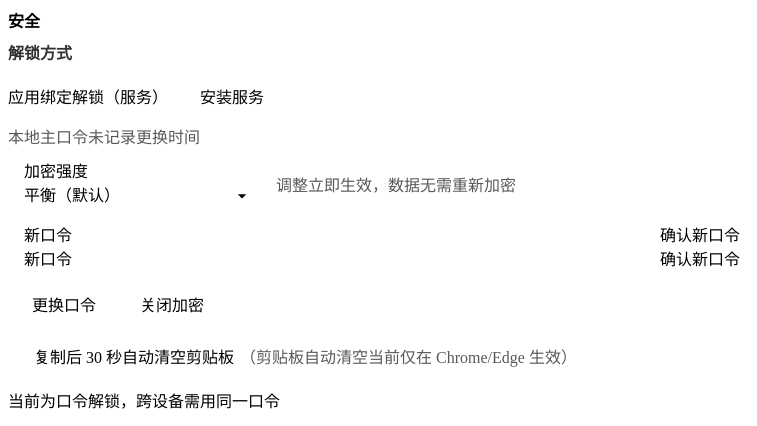
Test case: SecurityCard ABE 区块（plan p6 §0.3 三态 + R7-I2 源缺失引导态） › I4 编排：wrap 失败 → 不 addSource，内联提示绑定未完成，可重试
Click the button with class "abe-install" at (232, 96), box [176,76,288,116]
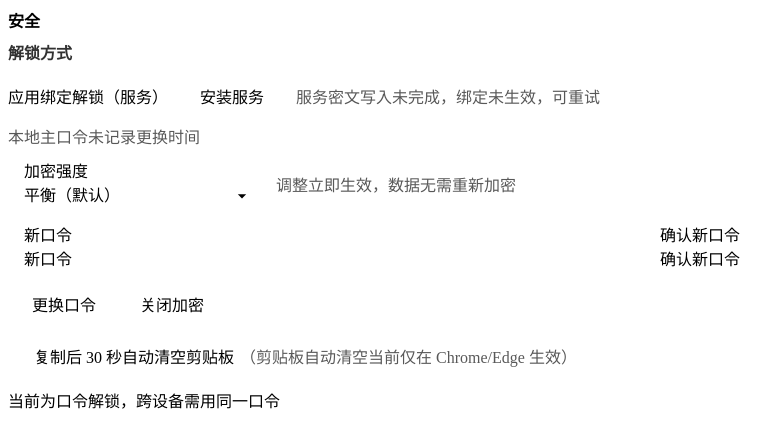
Now the text "服务密文写入未完成" is shown, box [296,89,600,106]
